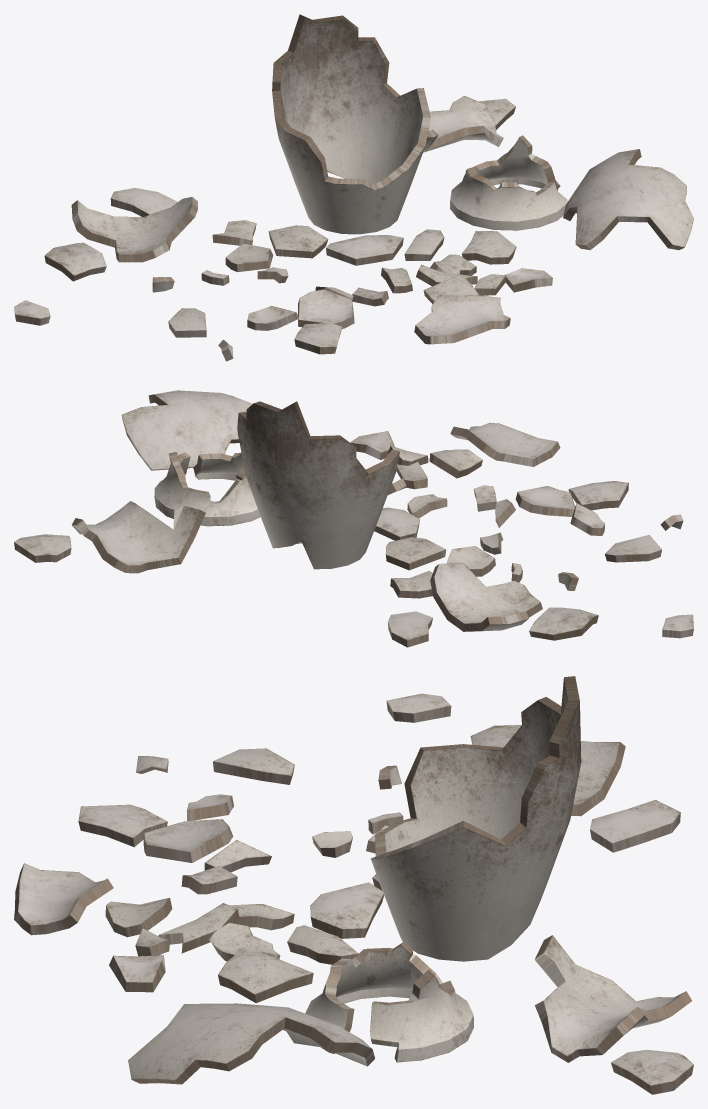
The model's file is broken_vase__lowpoly.glb.
3 renders of one model, top to bottom at view 1: azimuth 30°, elevation 25°; view 2: azimuth 150°, elevation 25°; view 3: azimuth 270°, elevation 25°, orthographic. The views are drawn at different scales.
Visible parts, largest first — view 1: Cylinder_cell.057; view 2: Cylinder_cell.057; view 3: Cylinder_cell.057.
Part boxes in pixels (x1,y1,x2,y2): Cylinder_cell.057: [14, 14, 693, 361]; Cylinder_cell.057: [14, 390, 693, 647]; Cylinder_cell.057: [14, 676, 693, 1094].
Bounding box in the file's own units: 5.9 × 1.73 × 4.08.
1 material, 1 textured.
